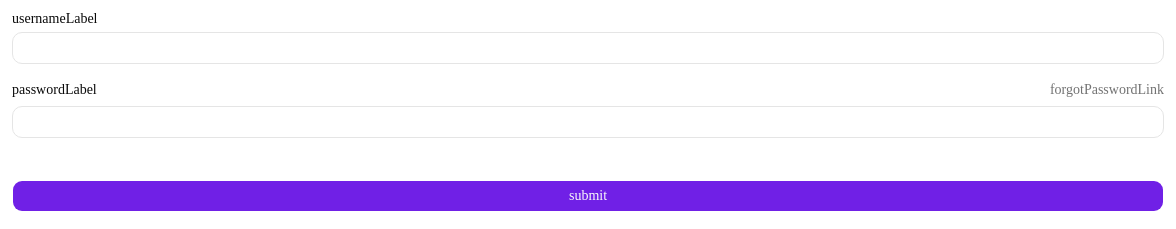
Test: LoginForm › shows the first required-field error above the button and never hits the network for an empty submission
The width and height of the screenshot is (1176, 229).
Click the button "submit" at (588, 196), box left=12, top=180, right=1164, bottom=212
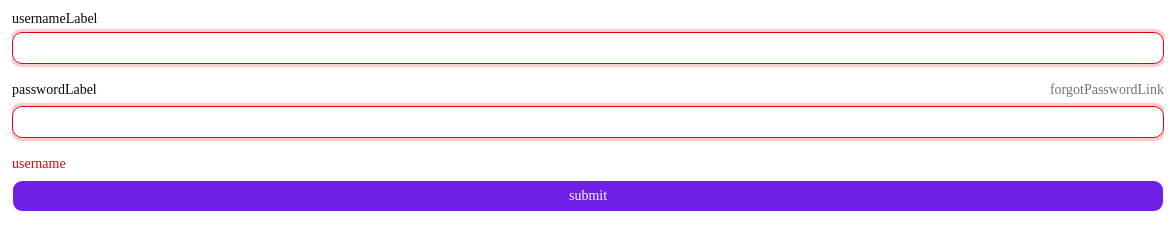
Now the text "username" is shown, box left=12, top=156, right=66, bottom=171
